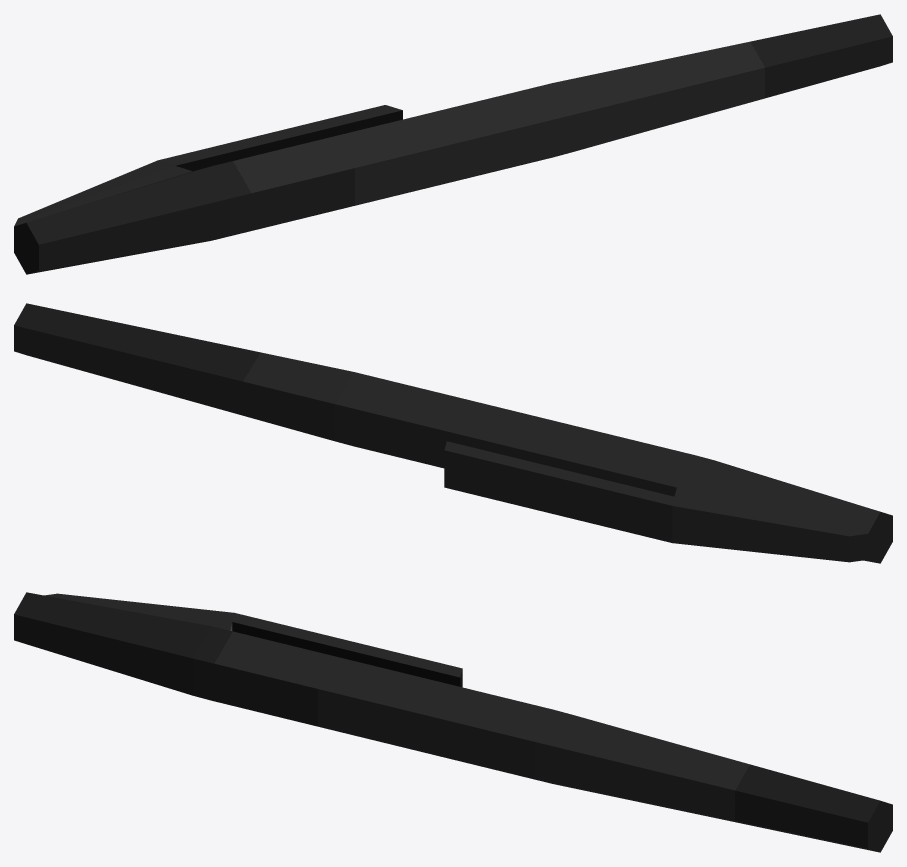
The model's file is pen2.fbx.
The picture shows the model from 3 angles, top to bottom: view 1: azimuth 30°, elevation 25°; view 2: azimuth 150°, elevation 25°; view 3: azimuth 330°, elevation 25°; orthographic projection.
Parts seen in each view (by area): view 1: pen2; view 2: pen2; view 3: pen2.
Part boxes in pixels (bbox=[...]): pen2: bbox=[14, 14, 892, 274]; pen2: bbox=[14, 303, 892, 563]; pen2: bbox=[14, 592, 892, 852].
Bounding box in the file's own units: 6.45 × 0.5378 × 0.7481.
1 material, 1 textured.
